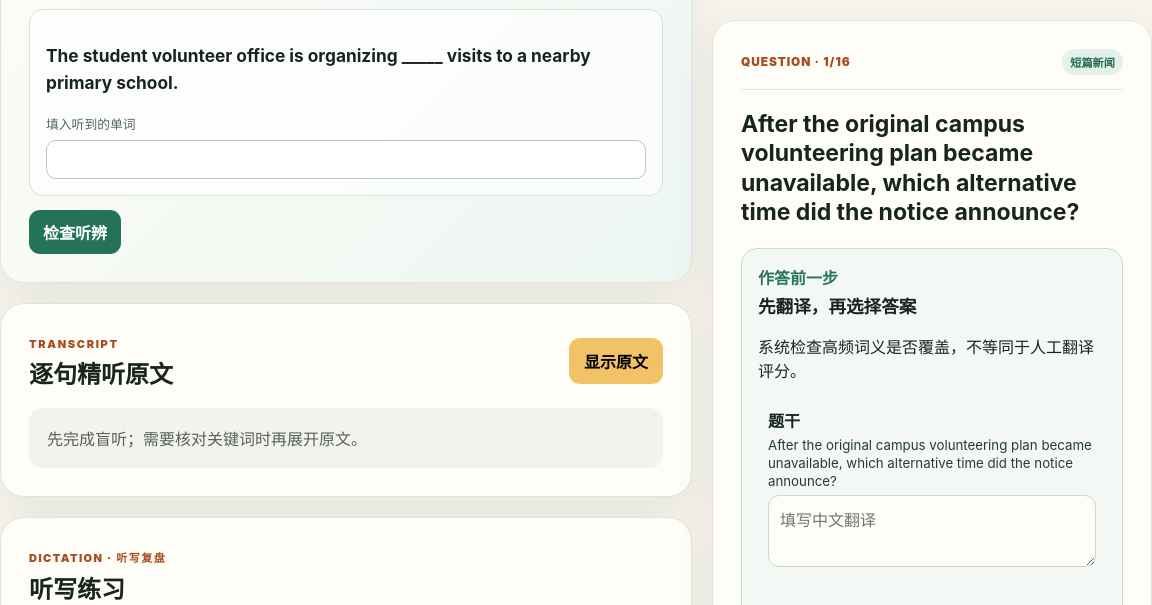
ListeningPage › keeps the transcript hidden until the learner asks to see it
(page scrolled)
Expected: the text "Saturday team reached its maximum size" is not shown
Click the button "显示原文".
click(616, 361)  # box [569,338,663,384]
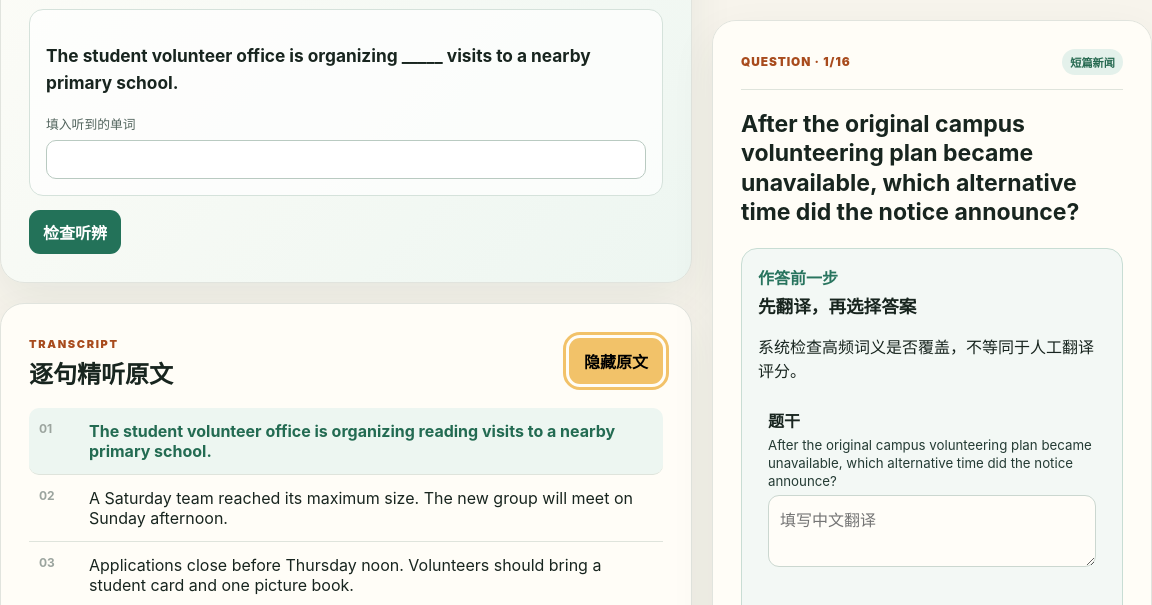
Result: the text "Saturday team reached its maximum size" is shown at [89,488,633,528]
